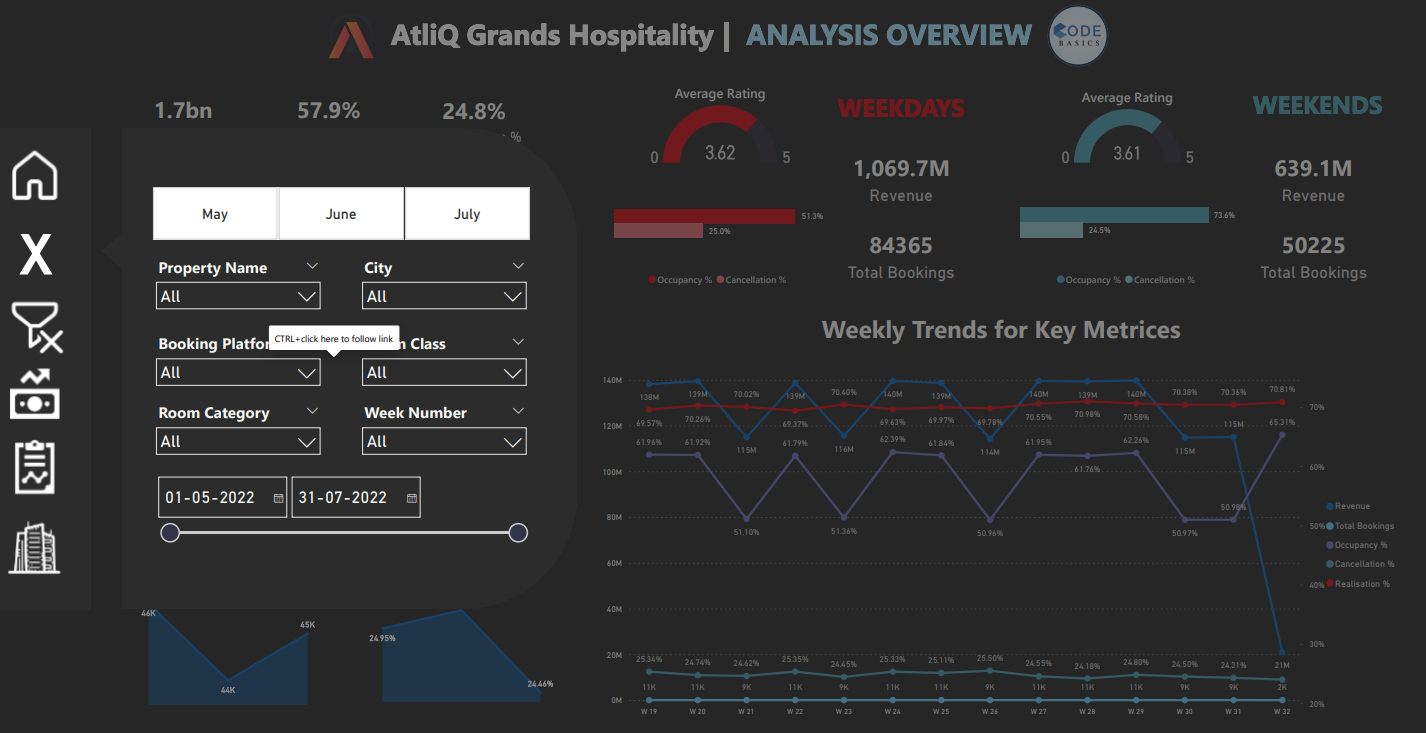

What the dashboard file says about the page in this screenshot:
{"tool":"powerbi","page":{"name":"Overview","canvas":[1890,970],"ordinal":0},"visuals":[{"type":"group","id":"g1","title":"AO Heading","box":[417.5,0,1060.4,96],"z":0},{"type":"image","title":"AtliQ Logo","box":[417.5,0,98.2,96],"z":0,"group":"g1"},{"type":"textbox","title":"WEEKENDS","box":[1640.5,110.7,208,77.7],"z":0,"group":"g4"},{"type":"card","title":"Revenue","fields":{"Values":["Metrics.Revenue"]},"box":[150.9,112.5,192,92.9],"z":0,"group":"g2"},{"type":"textbox","title":"WEEKDAYS","box":[1098.6,115.4,192.8,67.8],"z":0,"group":"g3"},{"type":"textbox","title":"Weekly Trends for Key Metrices Heading","box":[793.1,406.9,1067.4,65.8],"z":0,"group":"g6"},{"type":"textbox","title":"Trends for Key Metrices Heading","box":[146.3,477.7,610.9,64.8],"z":0,"group":"g5"},{"type":"image","title":"Codebasics Logo","box":[1379.7,0,98.2,96],"z":1000,"group":"g1"},{"type":"gauge","fields":{"Y":["Metrics.Average Rating"]},"box":[811.4,112,288.7,113.8],"z":1000,"group":"g3"},{"type":"card","title":"Occupancy %","fields":{"Values":["Metrics.Occupancy %"]},"box":[342.9,112.5,192,92.9],"z":1000,"group":"g2"},{"type":"gauge","fields":{"Y":["Metrics.Average Rating"]},"box":[1346.3,116.6,294,109.1],"z":1000,"group":"g4"},{"type":"shape","title":"Side Panel RC","box":[0,169.1,123.4,635.4],"z":1000,"group":"g7"},{"type":"lineChart","title":"Weekly Key Metrices Line Chart","fields":{"Category":["dim_date.week no"],"Y":["Metrics.Revenue","Metrics.Total Bookings"],"Y2":["Metrics.Occupancy %","Metrics.Cancellation Rate %","Metrics.Realisation %"]},"box":[795.1,484.9,1065.1,468.6],"z":1000,"group":"g6"},{"type":"areaChart","title":"Revenue","fields":{"Y":["Metrics.Revenue"],"Category":["dim_date.month_name"]},"box":[154.8,551.5,308.6,196.6],"z":1000,"group":"g5"},{"type":"textbox","title":"AGH AO Heading","box":[509.1,15.3,870.5,65.5],"z":2000,"group":"g1"},{"type":"card","title":"Cancellation Rate %","fields":{"Values":["Metrics.Cancellation %"]},"box":[534.9,112.5,192,92.9],"z":2000,"group":"g2"},{"type":"actionButton","title":"Home","box":[0,189.7,100.6,86.9],"z":2000,"group":"g7"},{"type":"clusteredBarChart","fields":{"Category":["dim_date.day_type"],"Y":["Metrics.Occupancy Value","Metrics.Cancellation Value"]},"box":[1346.3,220.3,294,167.6],"z":2000,"group":"g4"},{"type":"clusteredBarChart","fields":{"Category":["dim_date.day_type"],"Y":["Metrics.Occupancy Value","Metrics.Cancellation Value"]},"box":[811.4,223.8,286.2,164.1],"z":2000,"group":"g3"},{"type":"stackedAreaChart","title":"Occupancy %","fields":{"Y":["Metrics.Occupancy %"],"Category":["dim_date.month_name"]},"box":[461.1,551.5,310.9,189.7],"z":2000,"group":"g5"},{"type":"group","id":"g2","title":"Main Metrics Card","box":[150.9,112.5,576,329.1],"z":3000},{"type":"card","title":"Revenue","fields":{"Values":["Metrics.Revenue"]},"box":[1098.6,183.2,192.8,103.7],"z":3000,"group":"g3"},{"type":"card","title":"Revenue","fields":{"Values":["Metrics.Revenue"]},"box":[1640.5,186.1,196.6,98.3],"z":3000,"group":"g4"},{"type":"card","title":"Total Bookings","fields":{"Values":["Metrics.Total Bookings"]},"box":[150.9,205.4,192,92.9],"z":3000,"group":"g2"},{"type":"actionButton","title":"Filter","box":[0,285.7,100.6,86.9],"z":3000,"group":"g7"},{"type":"areaChart","title":"Total Bookings","fields":{"Category":["dim_date.month_name"],"Y":["Metrics.Total Bookings"]},"box":[154.8,752.6,304,182.9],"z":3000,"group":"g5"},{"type":"group","id":"g3","title":"Weekdays Metrics","box":[811.4,112,480,276.6],"z":4000},{"type":"card","title":"Realisation %","fields":{"Values":["Metrics.Realisation %"]},"box":[342.9,205.4,192,92.9],"z":4000,"group":"g2"},{"type":"card","title":"Total Bookings","fields":{"Values":["Metrics.Total Bookings"]},"box":[1640.7,284.3,198,104.3],"z":4000,"group":"g4"},{"type":"card","title":"Total Bookings","fields":{"Values":["Metrics.Total Bookings"]},"box":[1098.6,284.8,192.8,103.7],"z":4000,"group":"g3"},{"type":"areaChart","title":"Cancellation %","fields":{"Y":["Metrics.Cancellation Rate %"],"Category":["dim_date.month_name"]},"box":[463.4,748.1,301.7,182.9],"z":4000,"group":"g5"},{"type":"group","id":"g4","title":"Weekend Metrics","box":[1346.3,110.7,502.2,277.9],"z":5000},{"type":"card","title":"RevPAR","fields":{"Values":["Metrics.RevPAR"]},"box":[534.9,205.4,192,92.9],"z":5000,"group":"g2"},{"type":"actionButton","title":"Clear Filter","box":[0,386.2,100.6,86.9],"z":5000,"group":"g7"},{"type":"gauge","fields":{"Y":["Metrics.Average Rating"]},"box":[292,301.2,282.5,140.5],"z":6000,"group":"g2"},{"type":"actionButton","title":"RA","box":[0,477.7,100.6,86.9],"z":6000,"group":"g7"},{"type":"group","id":"g5","title":"Monthly Key Metrices Trends","box":[146.3,477.7,625.6,457.8],"z":6000},{"type":"group","id":"g6","title":"Weekly Key Metrices Trends","box":[793.1,406.9,1067.4,546.6],"z":7000},{"type":"actionButton","title":"BA","box":[0,575.9,100.7,85.7],"z":7000,"group":"g7"},{"type":"actionButton","title":"PA","box":[0,681.1,100.6,86.9],"z":8000,"group":"g7"},{"type":"group","id":"g7","title":"Side Panel","box":[0,169.1,125.1,636.7],"z":17501}]}

Visuals, with their boxes on the page's 1890x970 design canvas (x1, y1, x2, y2). These are canvas units, not pixel positions in the 1426x733 screenshot, which may show the page scaled, cropped or inside an application window:
"AO Heading" group: [x1=418, y1=0, x2=1478, y2=96]
"AtliQ Logo" image: [x1=418, y1=0, x2=516, y2=96]
"WEEKENDS" textbox: [x1=1640, y1=111, x2=1848, y2=188]
"Revenue" card: [x1=151, y1=112, x2=343, y2=205]
"WEEKDAYS" textbox: [x1=1099, y1=115, x2=1291, y2=183]
"Weekly Trends for Key Metrices Heading" textbox: [x1=793, y1=407, x2=1860, y2=473]
"Trends for Key Metrices Heading" textbox: [x1=146, y1=478, x2=757, y2=542]
"Codebasics Logo" image: [x1=1380, y1=0, x2=1478, y2=96]
gauge - Metrics.Average Rating: [x1=811, y1=112, x2=1100, y2=226]
"Occupancy %" card: [x1=343, y1=112, x2=535, y2=205]
gauge - Metrics.Average Rating: [x1=1346, y1=117, x2=1640, y2=226]
"Side Panel RC" shape: [x1=0, y1=169, x2=123, y2=804]
"Weekly Key Metrices Line Chart" lineChart: [x1=795, y1=485, x2=1860, y2=954]
"Revenue" areaChart: [x1=155, y1=552, x2=463, y2=748]
"AGH AO Heading" textbox: [x1=509, y1=15, x2=1380, y2=81]
"Cancellation Rate %" card: [x1=535, y1=112, x2=727, y2=205]
"Home" actionButton: [x1=0, y1=190, x2=101, y2=277]
clusteredBarChart - dim_date.day_type x Metrics.Occupancy Value: [x1=1346, y1=220, x2=1640, y2=388]
clusteredBarChart - dim_date.day_type x Metrics.Occupancy Value: [x1=811, y1=224, x2=1098, y2=388]
"Occupancy %" stackedAreaChart: [x1=461, y1=552, x2=772, y2=741]
"Main Metrics Card" group: [x1=151, y1=112, x2=727, y2=442]
"Revenue" card: [x1=1099, y1=183, x2=1291, y2=287]
"Revenue" card: [x1=1640, y1=186, x2=1837, y2=284]
"Total Bookings" card: [x1=151, y1=205, x2=343, y2=298]
"Filter" actionButton: [x1=0, y1=286, x2=101, y2=373]
"Total Bookings" areaChart: [x1=155, y1=753, x2=459, y2=936]
"Weekdays Metrics" group: [x1=811, y1=112, x2=1291, y2=389]
"Realisation %" card: [x1=343, y1=205, x2=535, y2=298]
"Total Bookings" card: [x1=1641, y1=284, x2=1839, y2=389]
"Total Bookings" card: [x1=1099, y1=285, x2=1291, y2=388]
"Cancellation %" areaChart: [x1=463, y1=748, x2=765, y2=931]
"Weekend Metrics" group: [x1=1346, y1=111, x2=1848, y2=389]
"RevPAR" card: [x1=535, y1=205, x2=727, y2=298]
"Clear Filter" actionButton: [x1=0, y1=386, x2=101, y2=473]
gauge - Metrics.Average Rating: [x1=292, y1=301, x2=574, y2=442]
"RA" actionButton: [x1=0, y1=478, x2=101, y2=565]
"Monthly Key Metrices Trends" group: [x1=146, y1=478, x2=772, y2=936]
"Weekly Key Metrices Trends" group: [x1=793, y1=407, x2=1860, y2=954]
"BA" actionButton: [x1=0, y1=576, x2=101, y2=662]
"PA" actionButton: [x1=0, y1=681, x2=101, y2=768]
"Side Panel" group: [x1=0, y1=169, x2=125, y2=806]
